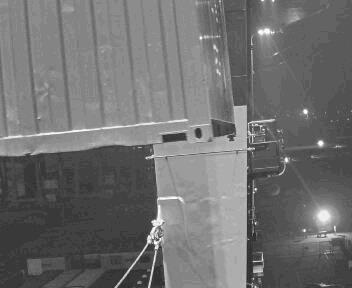twist_lock_1: (231, 123, 247, 142)
